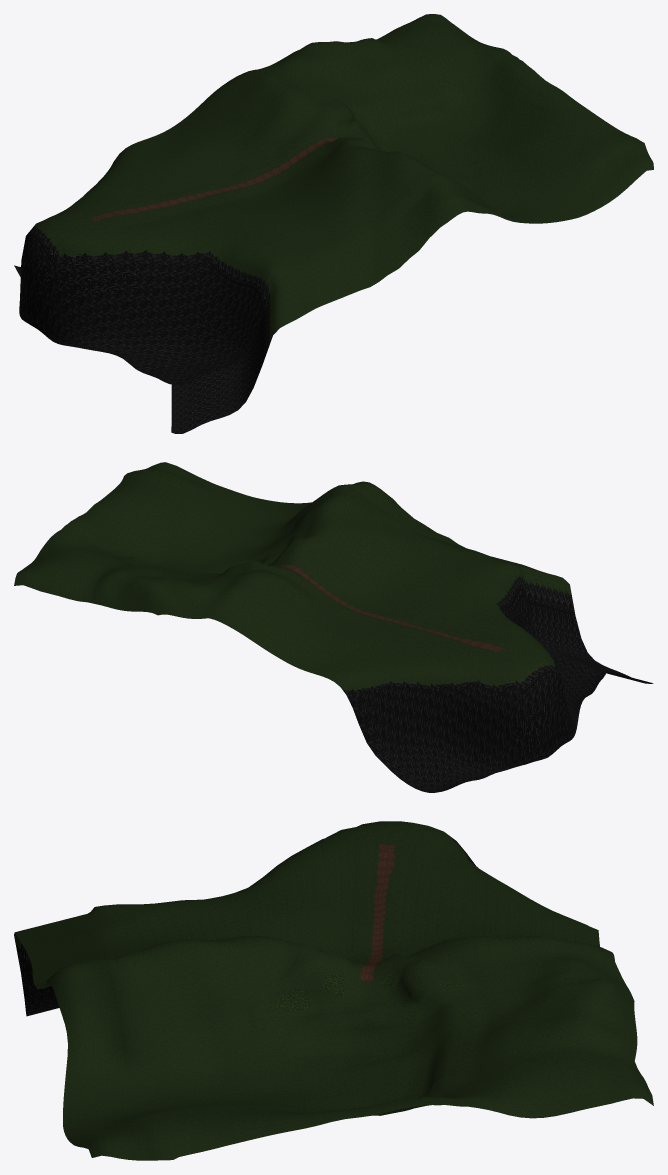
Rendered from coastMid.glb.
The picture shows the model from 3 angles, top to bottom: view 1: azimuth 30°, elevation 25°; view 2: azimuth 150°, elevation 25°; view 3: azimuth 270°, elevation 25°; orthographic projection. The views are drawn at different scales.
Visible parts, largest first — view 1: Central.col; view 2: Central.col; view 3: Central.col.
Part boxes in pixels (left/top/right/bottom): Central.col: left=14, top=14, right=653, bottom=433; Central.col: left=14, top=462, right=653, bottom=792; Central.col: left=14, top=821, right=653, bottom=1160.
Size of the model in its own units: 304 by 91.55 by 214.
Materials: 1 (1 with a texture image).
